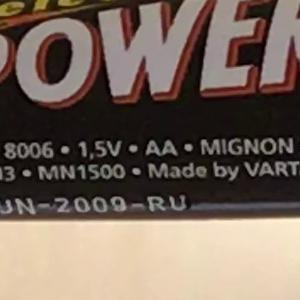keyword: (70, 132, 130, 166)
